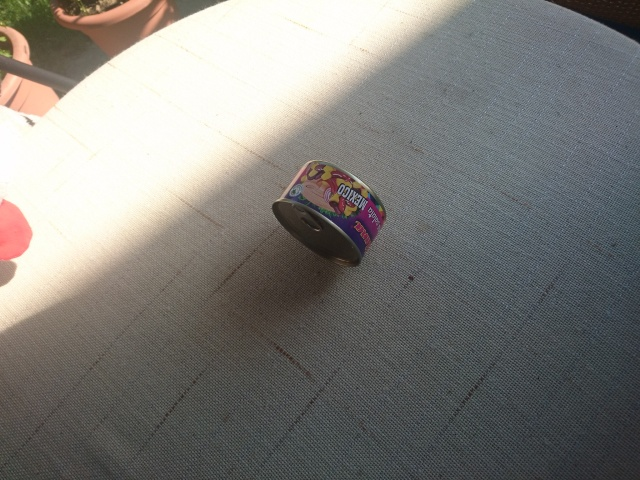Giana Tuna Salad Mexico 185g: (268, 157, 388, 269)
